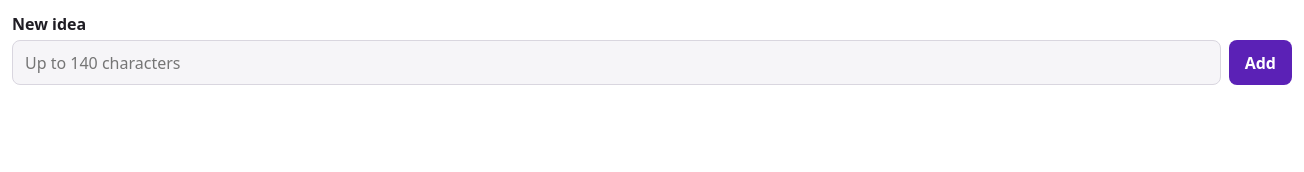
Test: IdeaForm › hides the error after a later successful add
Click the button "Add" at [1260, 63], box left=1229, top=40, right=1292, bottom=85
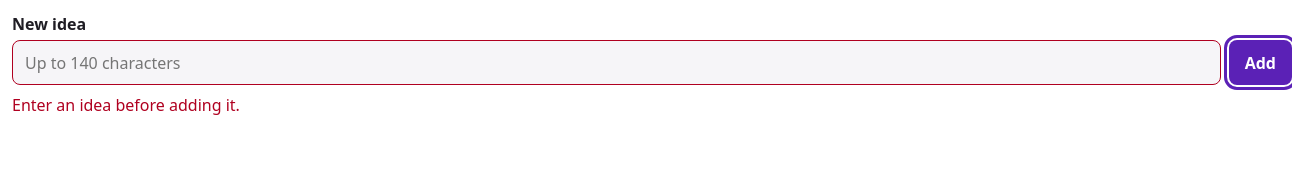
Check: the message "Enter an idea before adding it." is shown, box left=12, top=94, right=240, bottom=116
Type "Fine now" into the field labelled "New idea" at [616, 63], box left=12, top=40, right=1221, bottom=85
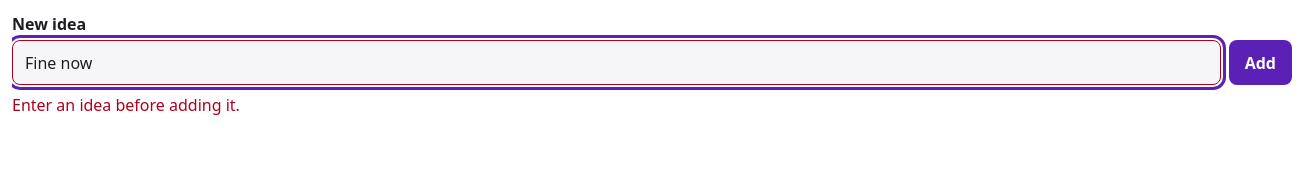
Click the button "Add" at [1260, 63], box left=1229, top=40, right=1292, bottom=85
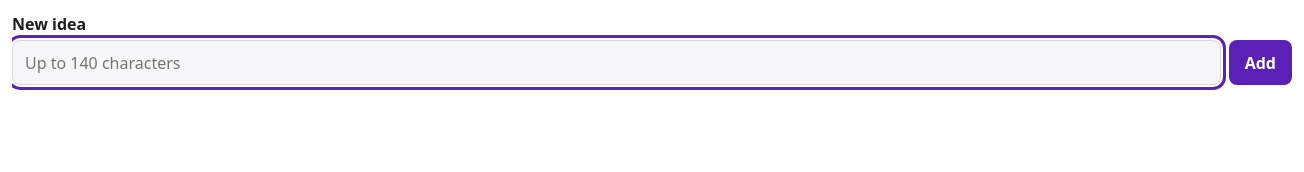
Check: the message "Enter an idea before adding it." is gone
